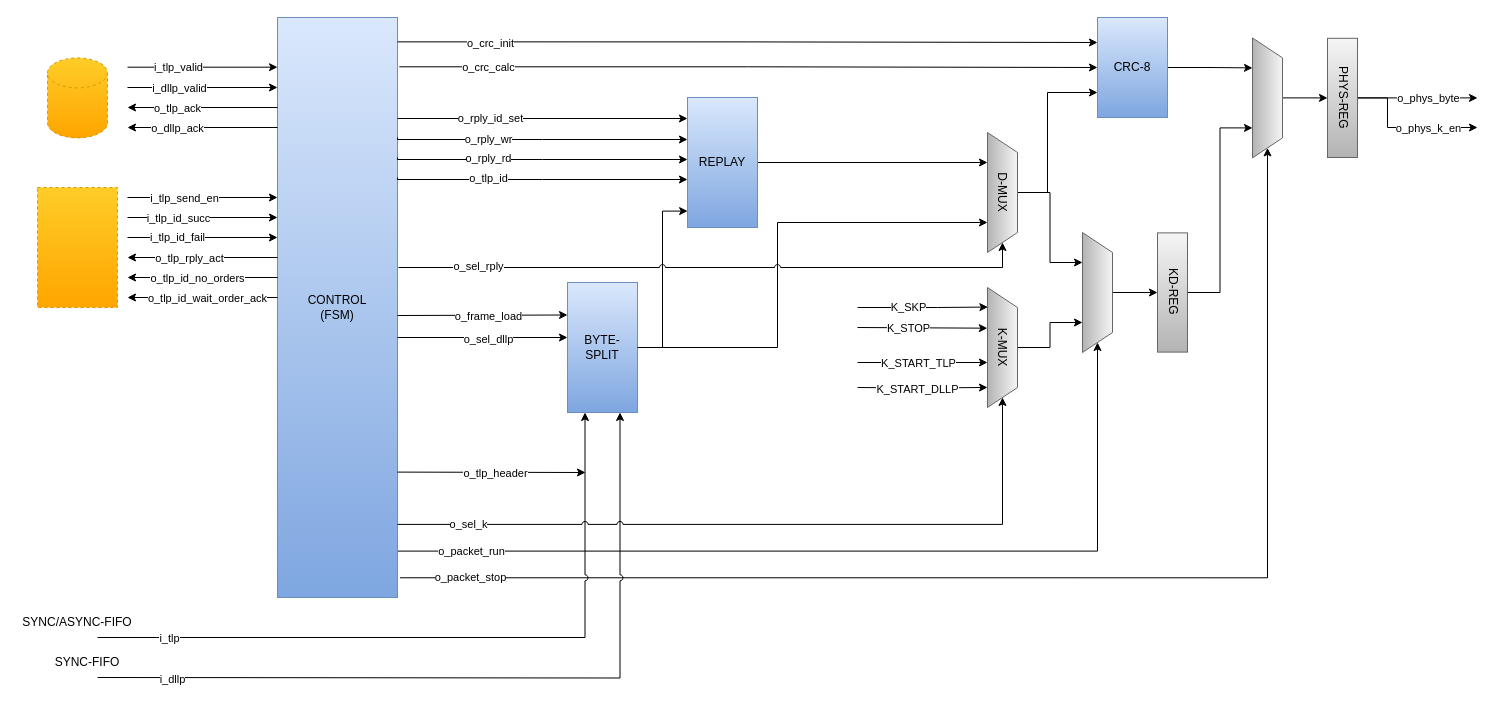
Some shapes in this 1503 by 704 pixel diagram are drawn without their labels. The box of each missing label's shape, as (x1, y1, x2, y2) in pixels:
FIFO: (46, 57, 108, 138)
KD-MUX: (1082, 232, 1112, 352)
LINK-MANAGER: (36, 186, 118, 308)
PHYS-MUX: (1252, 37, 1282, 158)
